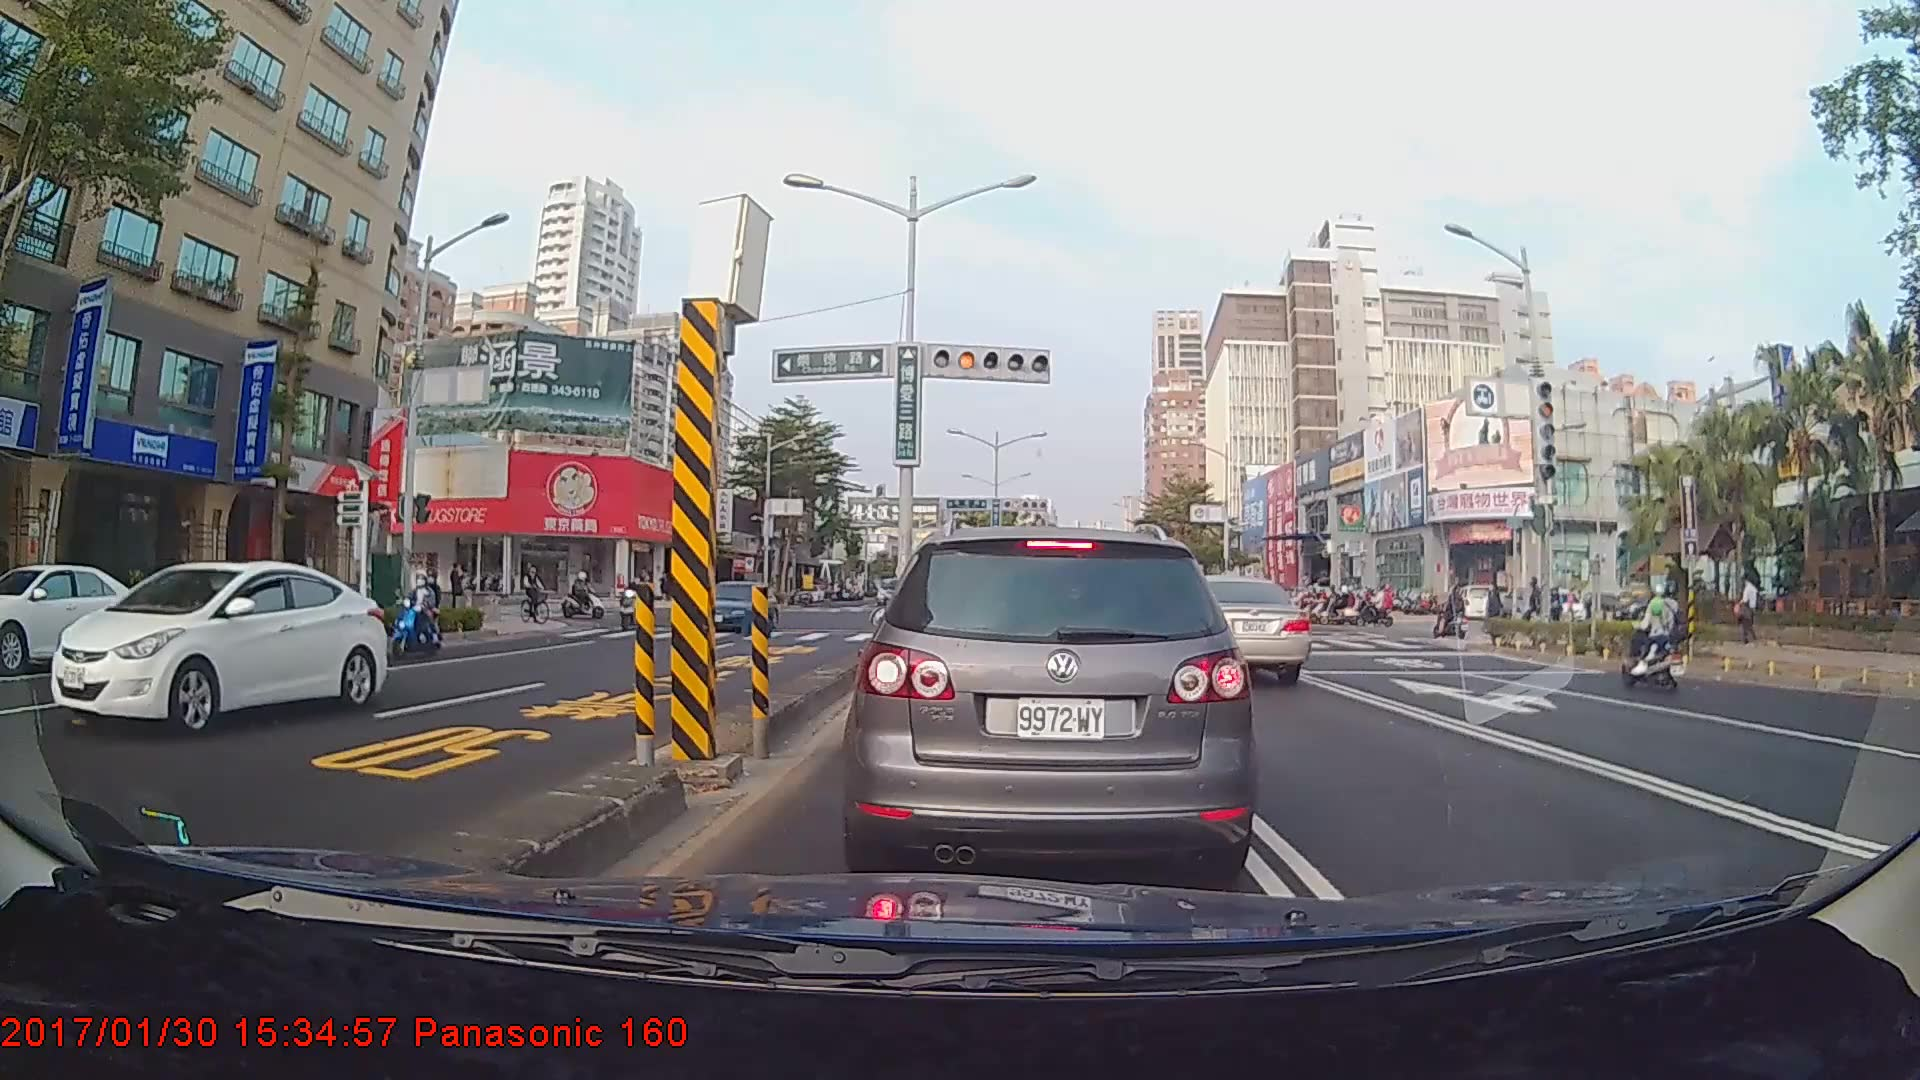pedestrian: (1738, 576, 1762, 643), (447, 563, 467, 620)
rider: (1618, 578, 1696, 696), (403, 574, 451, 656), (562, 566, 609, 619), (1435, 584, 1473, 640), (522, 566, 551, 627)
vehicle: (841, 510, 1257, 872), (48, 556, 388, 727), (0, 564, 158, 677), (1159, 575, 1310, 683), (697, 581, 780, 632)
